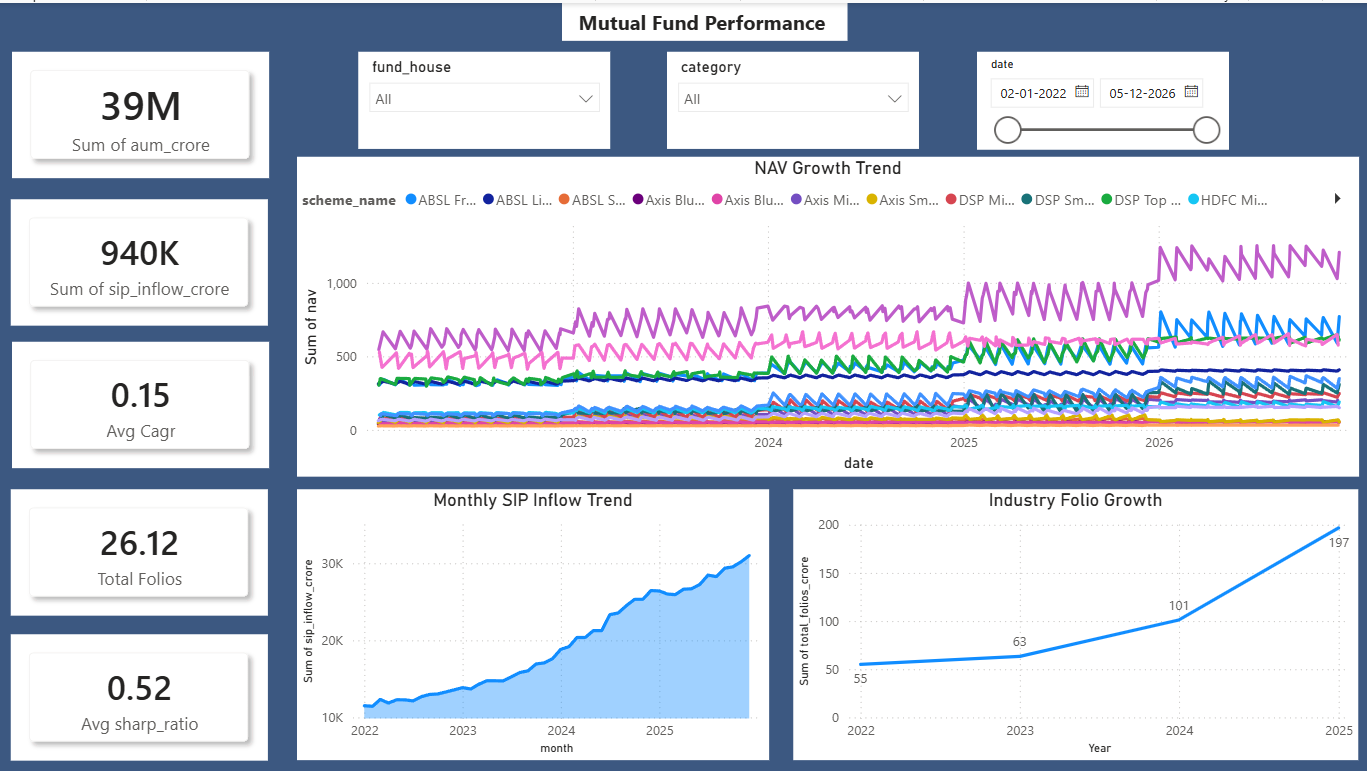

This screenshot's page, from the dashboard's own definition file:
{"tool":"powerbi","page":{"name":"Page 1","canvas":[1280,720],"ordinal":0},"visuals":[{"type":"lineChart","title":"NAV Growth Trend","fields":{"Category":["nav_history_clean.date.Variation.Date Hierarchy.Year"],"Y":["Sum(nav_history_clean.nav)"],"Series":["01_fund_master.scheme_name"]},"box":[278.9,143.3,987.8,297.8],"z":0},{"type":"areaChart","title":"Monthly SIP Inflow Trend","fields":{"Y":["Sum(04_monthly_sip_inflows.sip_inflow_crore)"],"Category":["04_monthly_sip_inflows.month.Variation.Date Hierarchy.Year"]},"box":[278.9,452.2,438.9,252.2],"z":1000},{"type":"cardVisual","fields":{"Data":["Sum(04_monthly_sip_inflows.sip_inflow_crore)"]},"box":[13.3,182.2,238.9,117.8],"z":2000},{"type":"cardVisual","fields":{"Data":["fund_scorecard.Avg sharp_ratio"]},"box":[13.3,586.7,238.9,117.8],"z":3000},{"type":"cardVisual","fields":{"Data":["fund_scorecard.Avg Cagr"]},"box":[14.4,315.6,238.9,117.8],"z":4000},{"type":"cardVisual","fields":{"Data":["Sum(03_aum_by_fund_house.aum_crore)"]},"box":[14.4,45.6,238.9,117.8],"z":5000},{"type":"cardVisual","fields":{"Data":["06_industry_folio_count.Total Folios"]},"box":[13.3,452.2,238.9,117.8],"z":6000},{"type":"slicer","fields":{"Values":["01_fund_master.fund_house"]},"box":[335.6,45.6,234.4,90],"z":7000},{"type":"slicer","fields":{"Values":["01_fund_master.category"]},"box":[623.3,45.6,234.4,90],"z":8000},{"type":"slicer","fields":{"Values":["nav_history_clean.date"]},"box":[911.1,45.6,234.4,90],"z":9000},{"type":"lineChart","title":"Industry Folio Growth","fields":{"Y":["Sum(06_industry_folio_count.total_folios_crore)"],"Category":["06_industry_folio_count.month.Variation.Date Hierarchy.Year","06_industry_folio_count.month.Variation.Date Hierarchy.Quarter","06_industry_folio_count.month.Variation.Date Hierarchy.Month","06_industry_folio_count.month.Variation.Date Hierarchy.Day"]},"box":[741.1,452.2,525.6,252.2],"z":10000},{"type":"textbox","box":[525.6,0,265.6,35.6],"z":11000}]}

Visuals, with their boxes in screenshot pixels (x1, y1, x2, y2), scaled from the page's 1280x720 canvas onto the 1367x771 screenshot:
"NAV Growth Trend" lineChart: box(298, 153, 1353, 472)
"Monthly SIP Inflow Trend" areaChart: box(298, 484, 767, 754)
cardVisual - Sum(04_monthly_sip_inflows.sip_inflow_crore): box(14, 195, 269, 321)
cardVisual - fund_scorecard.Avg sharp_ratio: box(14, 628, 269, 754)
cardVisual - fund_scorecard.Avg Cagr: box(15, 338, 271, 464)
cardVisual - Sum(03_aum_by_fund_house.aum_crore): box(15, 49, 271, 175)
cardVisual - 06_industry_folio_count.Total Folios: box(14, 484, 269, 610)
slicer - 01_fund_master.fund_house: box(358, 49, 609, 145)
slicer - 01_fund_master.category: box(666, 49, 916, 145)
slicer - nav_history_clean.date: box(973, 49, 1223, 145)
"Industry Folio Growth" lineChart: box(791, 484, 1353, 754)
textbox: box(561, 0, 845, 38)
